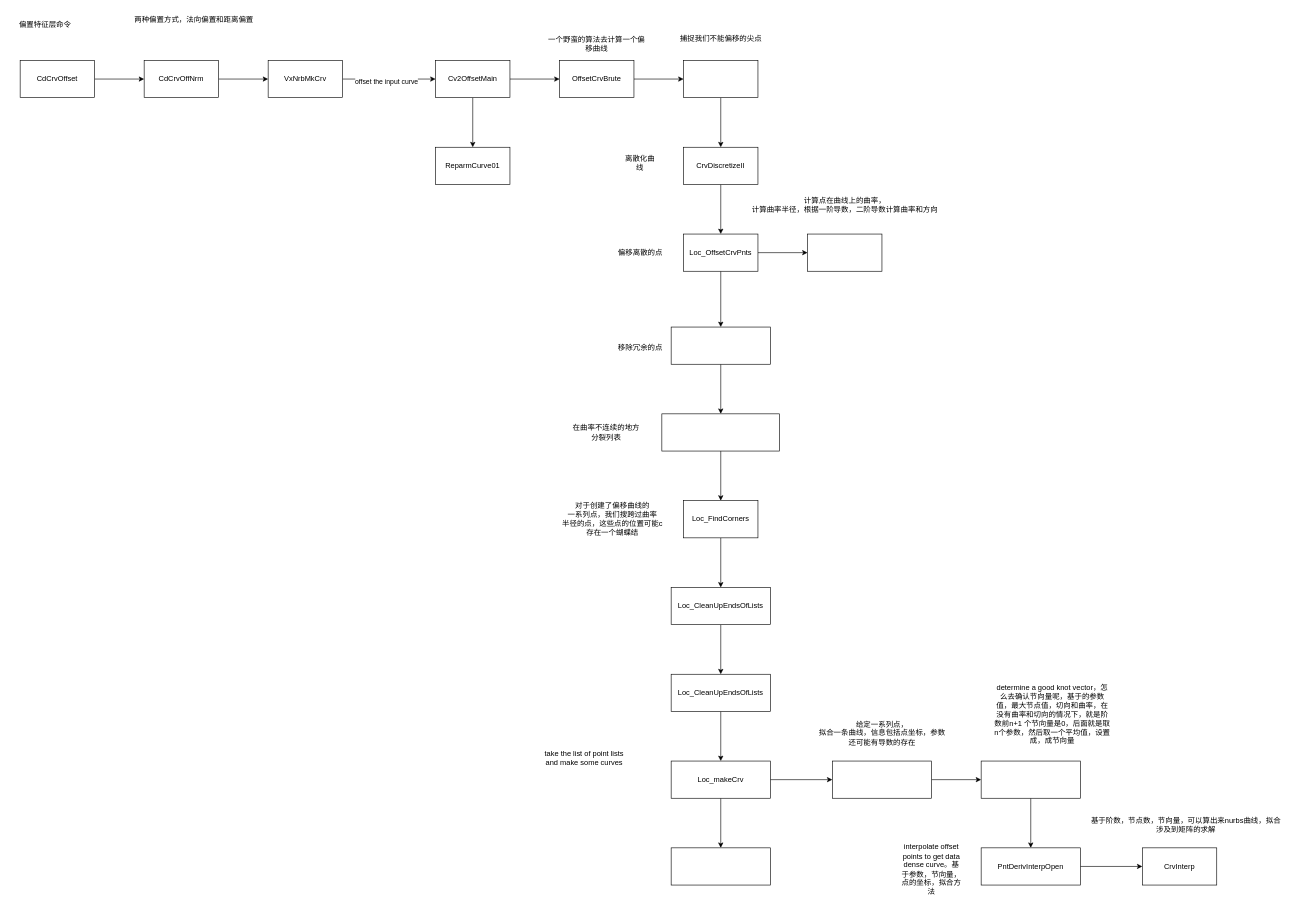
Image size: 1298x908. Some labels were removed from this diagram. The shapes that lost their labels are listed below. From the top down, each one's centre as x and y in pixels, then its label:
At (x=720, y=79): "VxCrvGetCusps".
At (x=844, y=252): "OffsetGetPntInfo".
At (x=720, y=345): "Loc_RemoveDuplicatePnts".
At (x=720, y=432): "Loc_SplitListAtCurvatureDiscont".
At (x=882, y=779): "Loc_MakeCrvFromPoints".
At (x=1030, y=779): "MKOpenAugKnot".
At (x=720, y=866): "CrvOffSetValid".
